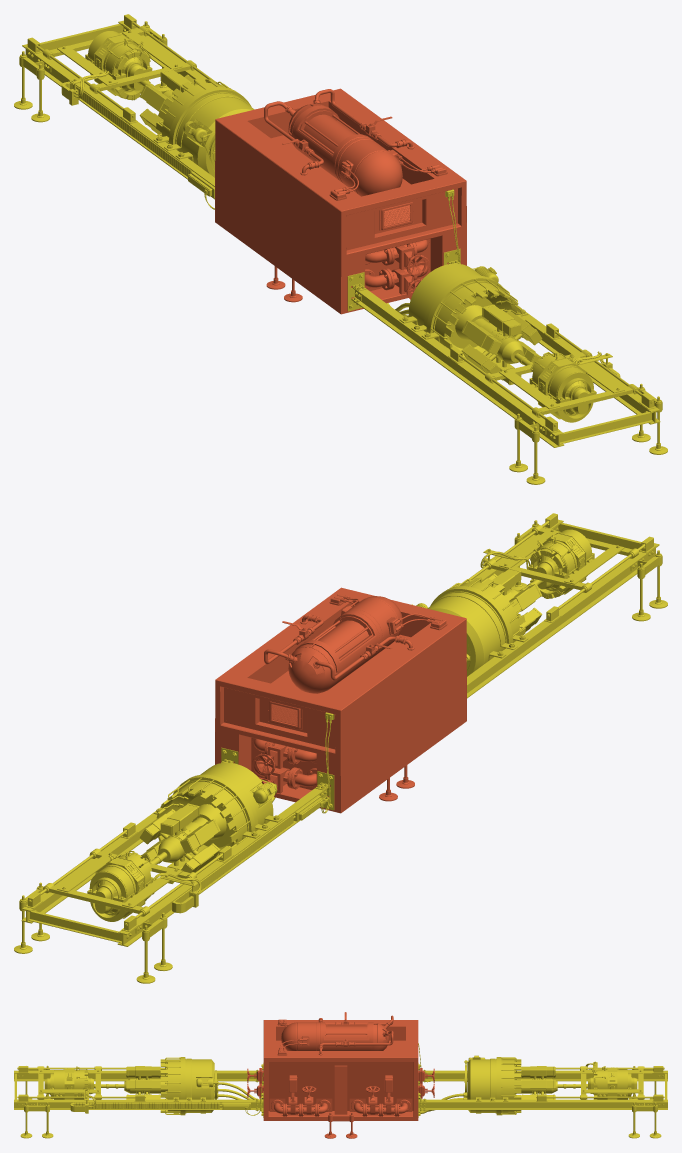
Rendered from device5.FBX.
3 views of the same model, one above another, from view 1: azimuth 30°, elevation 25°; view 2: azimuth 150°, elevation 25°; view 3: azimuth 270°, elevation 25° (orthographic). The views are drawn at different scales.
Visible parts, largest first — view 1: part1a, part2a, part3a; view 2: part1a, part3a, part2a; view 3: part1a, part2a, part3a.
Boxes of the visible parts, x1,y1,x2,y2 form: part1a: [215, 88, 466, 314]; part2a: [347, 189, 667, 484]; part3a: [14, 14, 254, 209]; part1a: [215, 587, 466, 813]; part3a: [14, 712, 334, 983]; part2a: [412, 513, 667, 698]; part1a: [247, 1012, 434, 1138]; part2a: [14, 1057, 263, 1138]; part3a: [418, 1043, 667, 1138].
Size of the model in its own units: 75.82 by 77.88 by 491.
